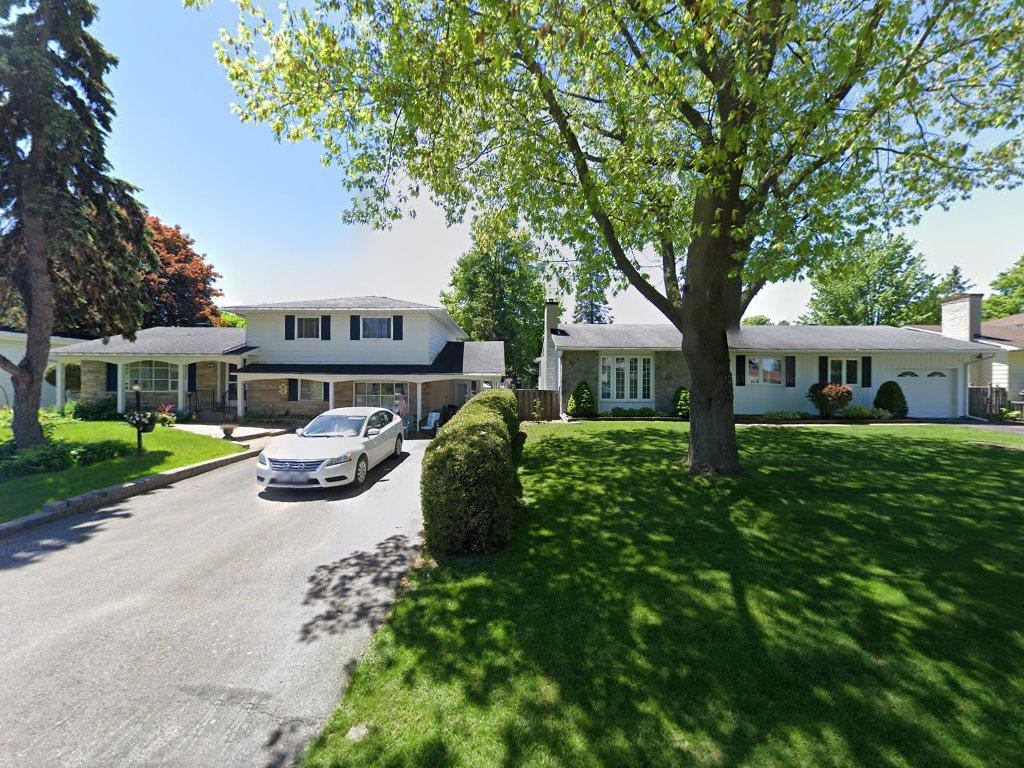trunk: (680, 140, 749, 493), (6, 192, 50, 441)
